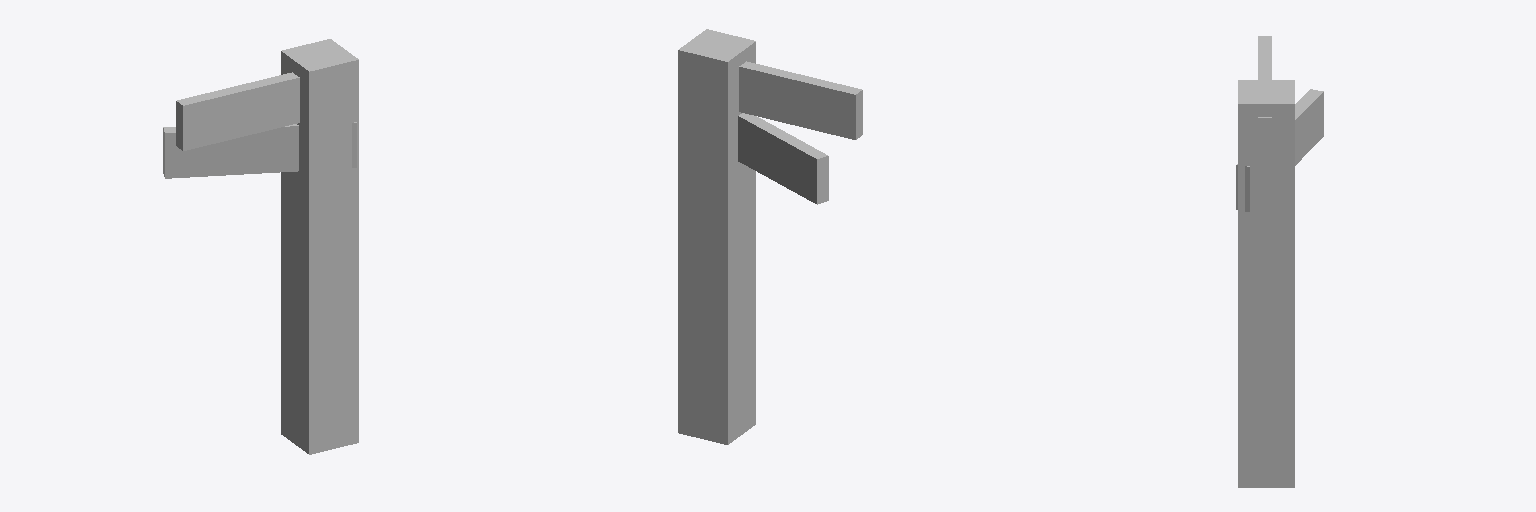
File: signPost.obj
3 renders of one model, left to right at view 1: azimuth 30°, elevation 25°; view 2: azimuth 150°, elevation 25°; view 3: azimuth 270°, elevation 25°, orthographic.
Bounding box in the file's own units: 0.8442 × 1.84 × 0.3806.